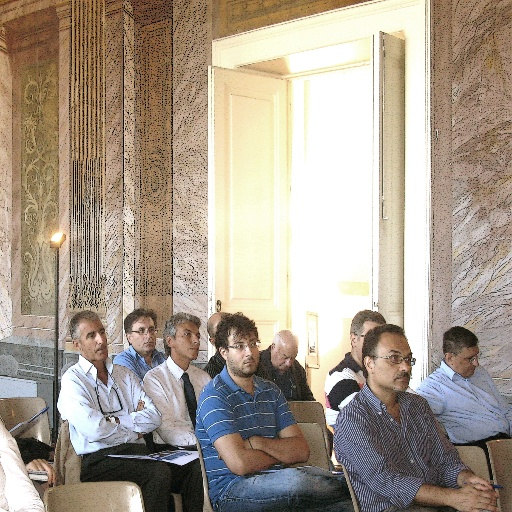hand: (451, 478, 499, 511), (24, 458, 59, 485), (463, 475, 498, 498), (134, 397, 148, 436), (242, 436, 257, 450)
